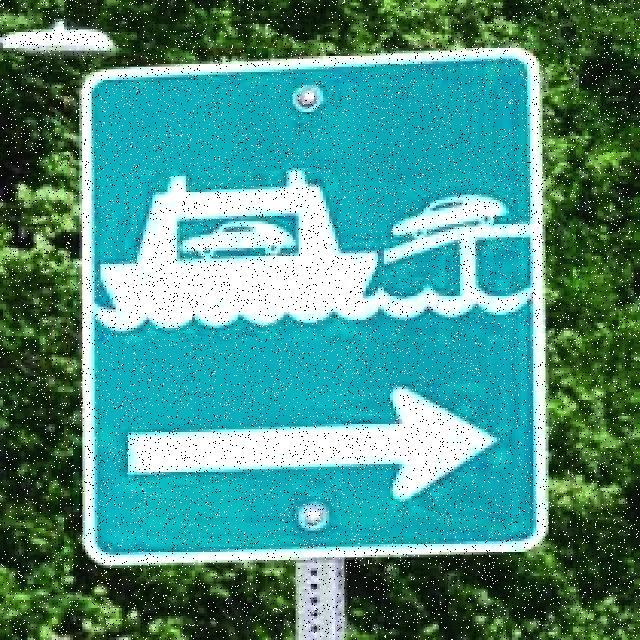Traffic sign: (75, 39, 554, 573)
